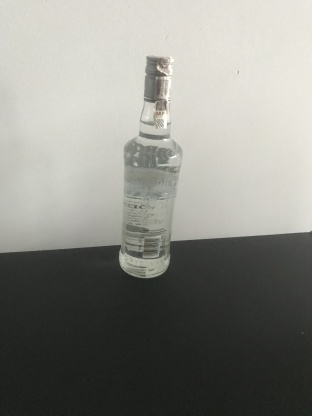nakretka: (142, 52, 176, 102)
